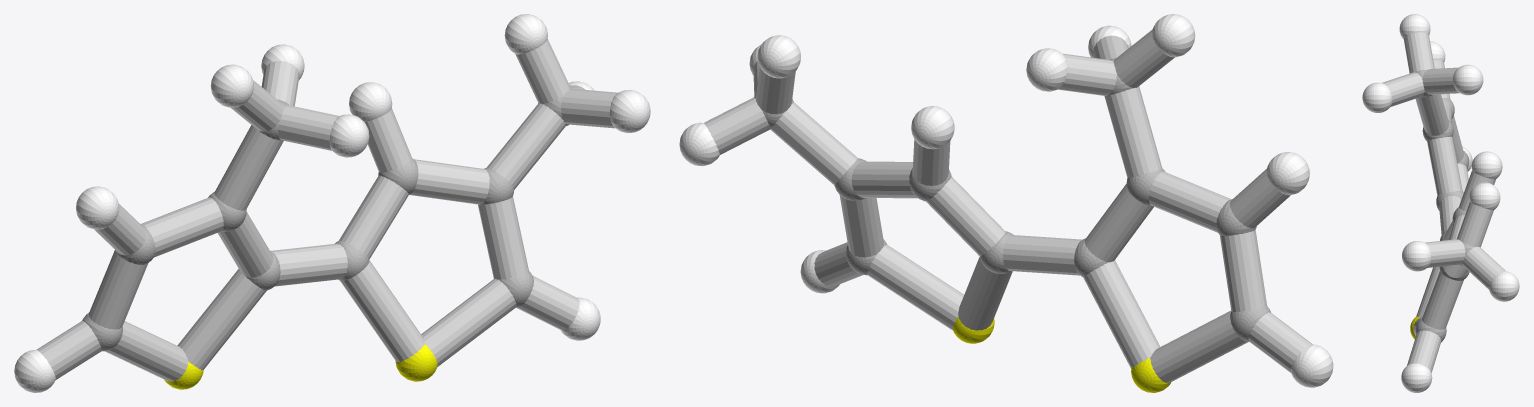
File: Methylthiophene_Phi_10_Theta_150_Methylthiophene.glb
3 views of the same model, side by side, from view 1: azimuth 30°, elevation 25°; view 2: azimuth 150°, elevation 25°; view 3: azimuth 270°, elevation 25° (orthographic). The views are drawn at different scales.
Visible parts, largest first — view 1: grp7965, grp3621, grp1, grp7241; view 2: grp7965, grp3621, grp1, grp7241; view 3: grp7965, grp3621, grp1.
Part boxes in pixels (bbox=[...]): grp7965: bbox=[36, 39, 617, 381]; grp3621: bbox=[14, 14, 650, 392]; grp1: bbox=[82, 87, 571, 351]; grp7241: bbox=[164, 344, 437, 389]; grp7965: bbox=[704, 29, 1312, 382]; grp3621: bbox=[679, 14, 1333, 387]; grp1: bbox=[754, 58, 1270, 341]; grp7241: bbox=[952, 316, 1171, 392]; grp7965: bbox=[1382, 32, 1505, 372]; grp3621: bbox=[1362, 14, 1519, 392]; grp1: bbox=[1415, 69, 1474, 342].
Bounding box in the file's own units: 9.77 × 5.58 × 3.05.
